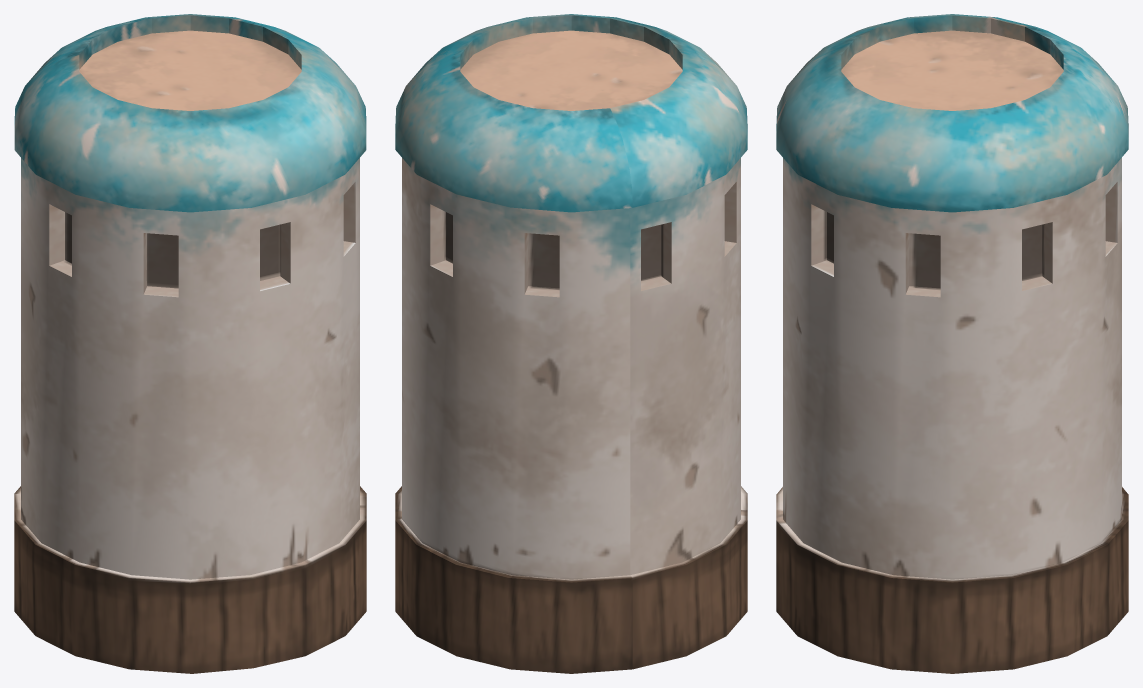
The model's file is Z1_Round_Tower_Low.FBX.
3 views of the same model, side by side, from view 1: azimuth 30°, elevation 25°; view 2: azimuth 150°, elevation 25°; view 3: azimuth 270°, elevation 25° (orthographic).
Parts seen in each view (by area): view 1: Z1_Round_Tower_Low; view 2: Z1_Round_Tower_Low; view 3: Z1_Round_Tower_Low.
Boxes of the visible parts, x1=… form: Z1_Round_Tower_Low: x1=14, y1=14, x2=366, y2=673; Z1_Round_Tower_Low: x1=395, y1=14, x2=747, y2=673; Z1_Round_Tower_Low: x1=776, y1=14, x2=1128, y2=673.
Size of the model in its own units: 615 by 1014 by 605.
